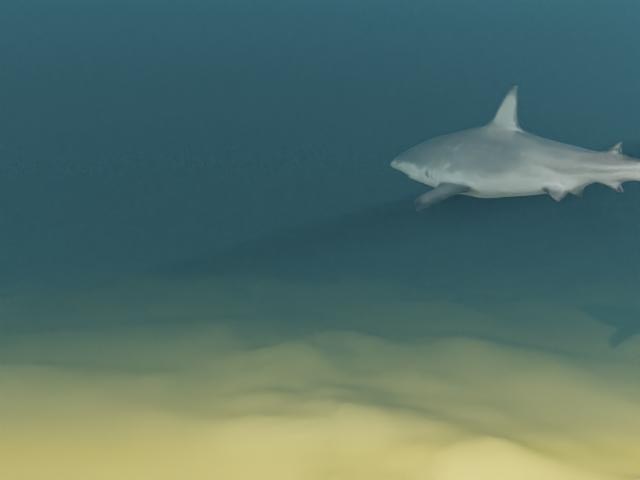Carribean Shark.001: (390, 84, 640, 223)
